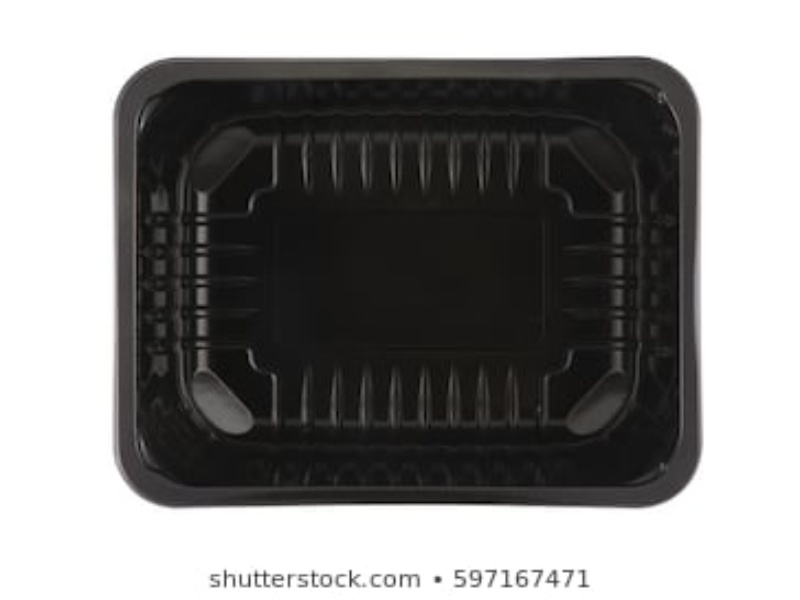plastic-tray: (102, 53, 714, 511)
